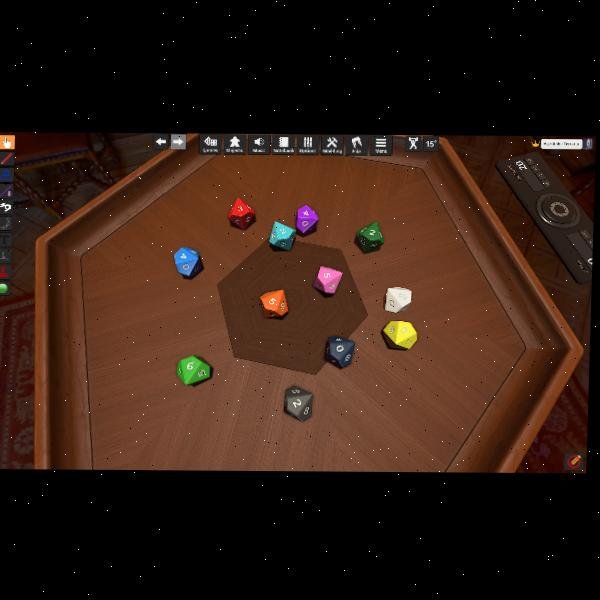d10: (177, 354, 211, 385), (286, 385, 315, 421), (324, 335, 354, 368), (382, 320, 414, 350), (173, 246, 202, 279), (356, 221, 383, 253), (228, 197, 255, 229), (260, 290, 290, 318), (268, 221, 295, 250), (313, 267, 341, 294), (384, 285, 410, 313), (295, 204, 318, 234)
